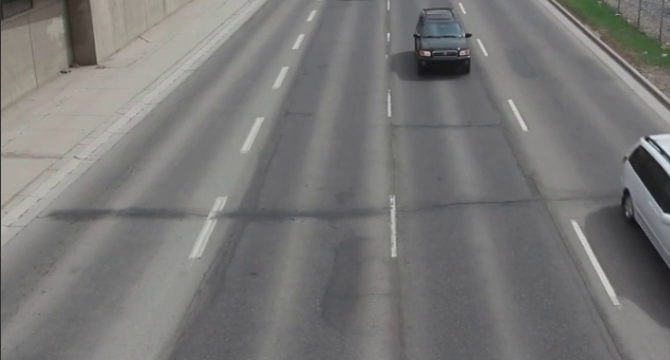car: (620, 136, 670, 268), (409, 7, 476, 83)
